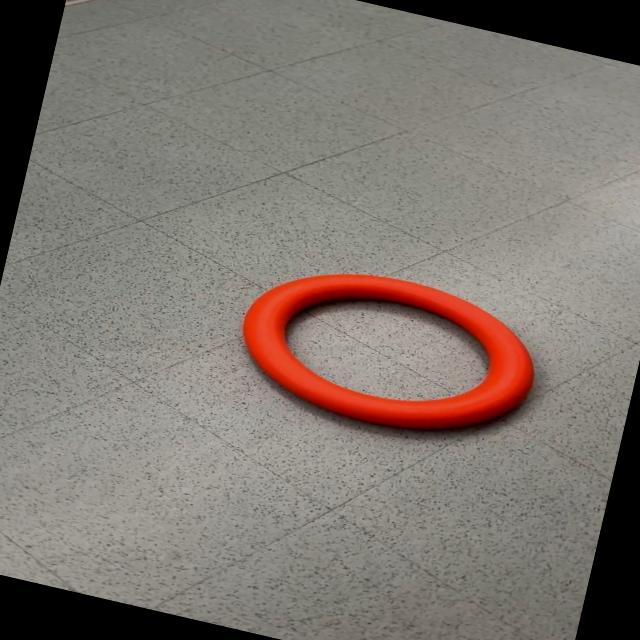note: (225, 245, 550, 458)
